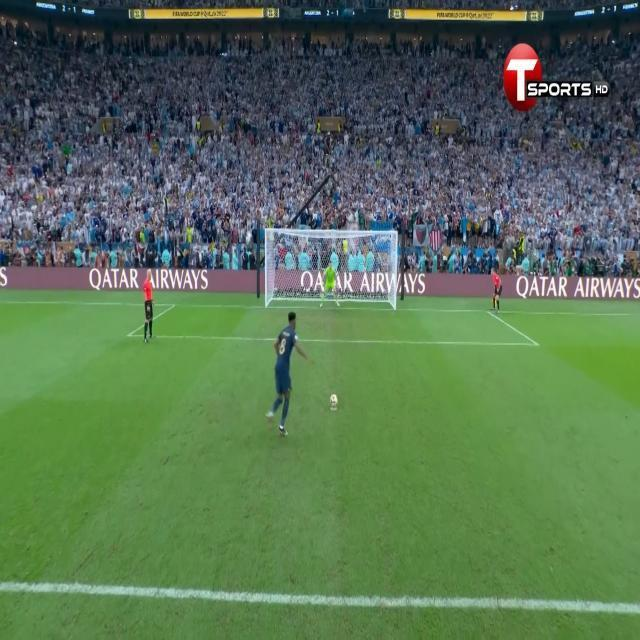ball: (329, 390, 338, 408)
goalkeeper: (318, 259, 342, 310)
player: (267, 306, 309, 449)
referee: (142, 270, 157, 350), (486, 265, 503, 317)
